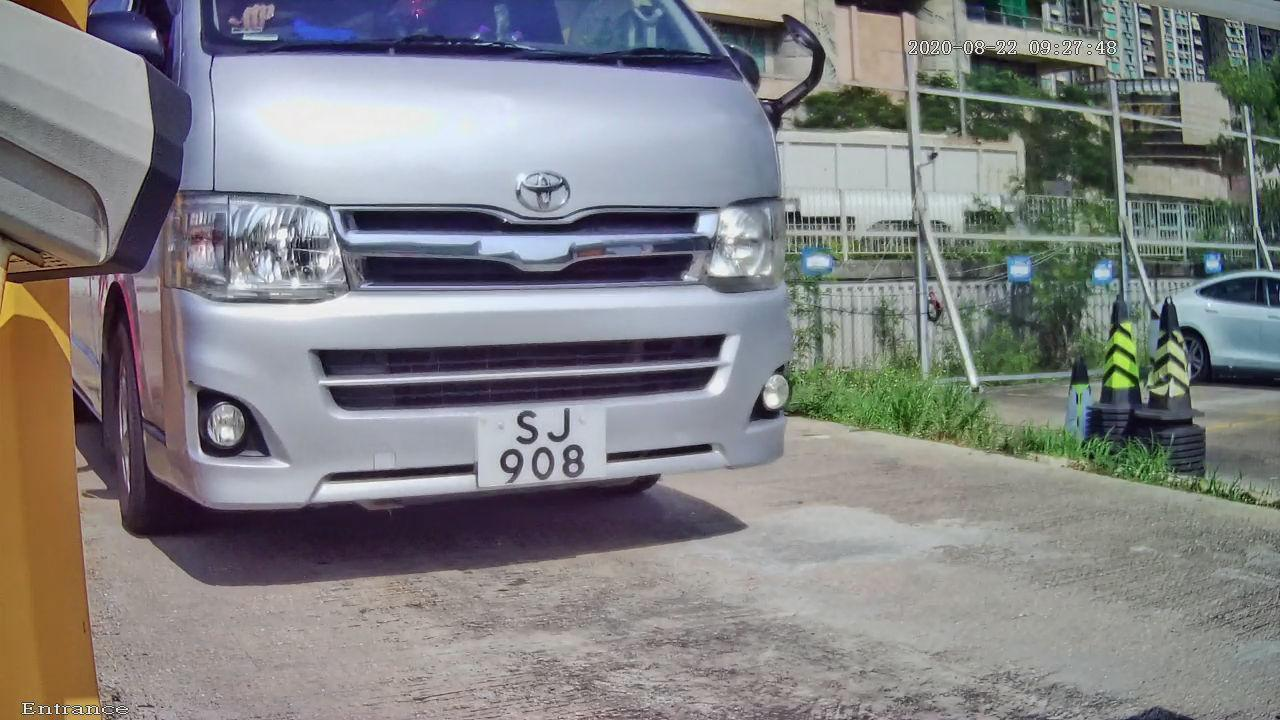License Plate: (435, 384, 654, 501)
